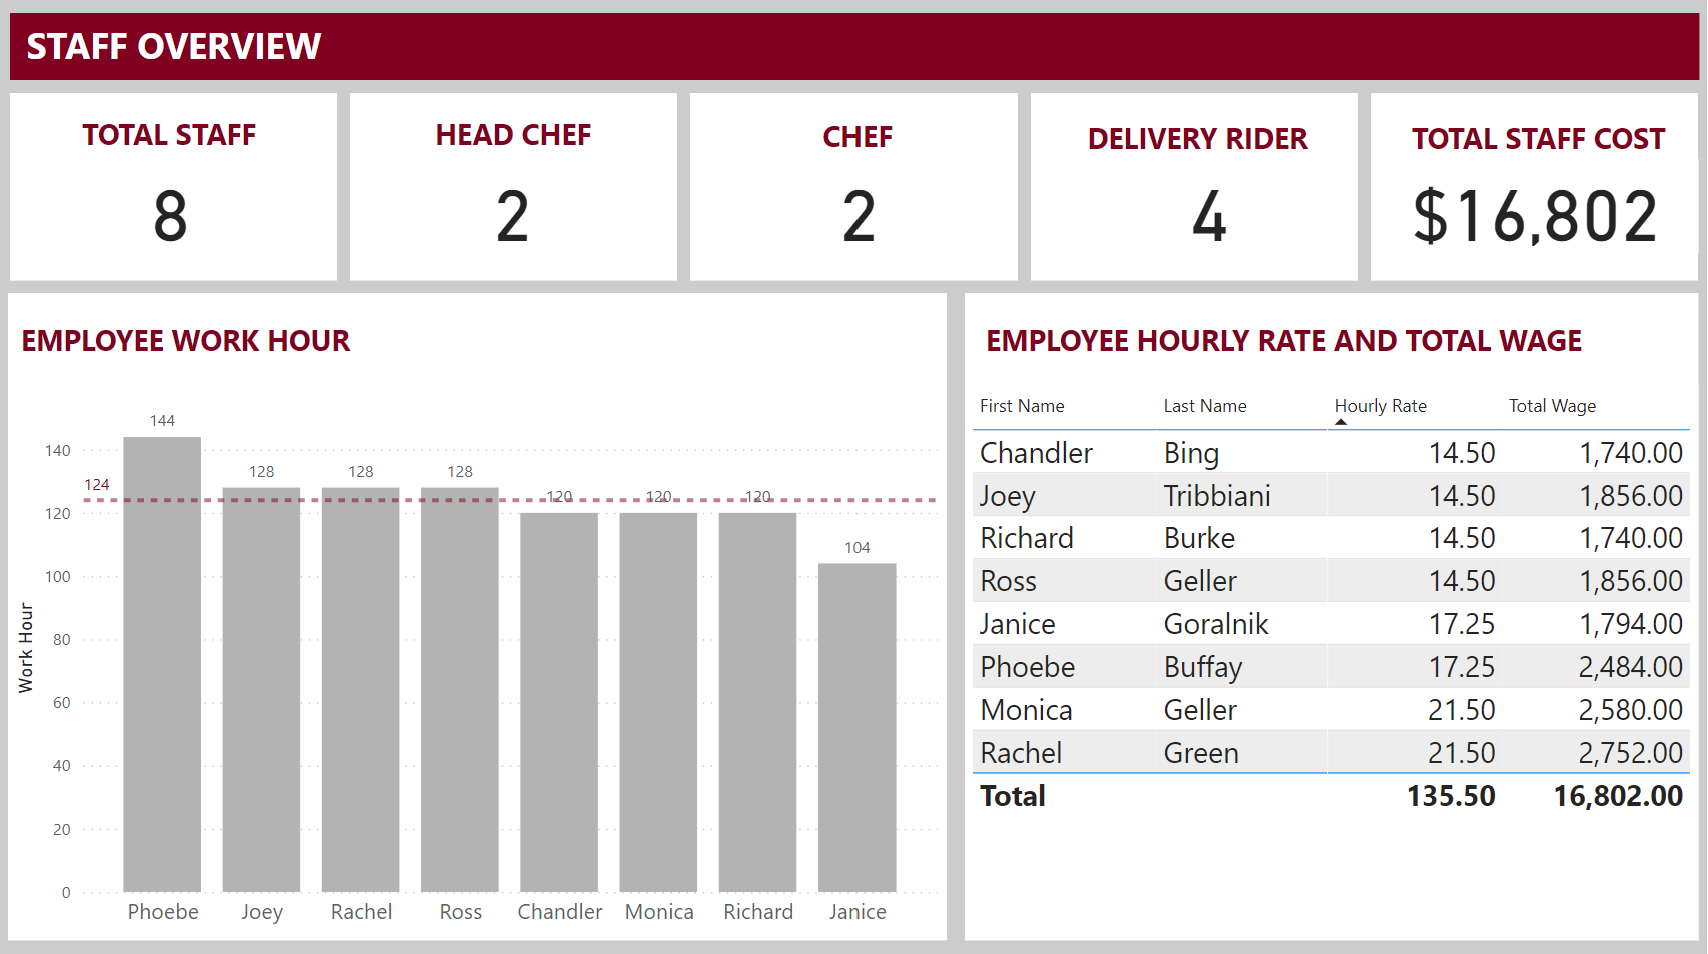

Layout of this report page (visuals, bound fields, positions):
{"tool":"powerbi","page":{"name":"Staff","canvas":[1280,720],"ordinal":2},"visuals":[{"type":"shape","box":[0,0,1280,720],"z":0},{"type":"textbox","box":[10,10,1260,50],"z":1000},{"type":"shape","box":[10,70,244,140],"z":2000},{"type":"textbox","box":[32,80,195.7,40],"z":3000},{"type":"shape","box":[264,70.4,244,140],"z":4000},{"type":"textbox","box":[288.3,80.4,195.7,40],"z":5000},{"type":"shape","box":[518,70,244,140],"z":6000},{"type":"textbox","box":[545.5,81.8,195.7,40],"z":7000},{"type":"shape","box":[772,70,244,140],"z":8000},{"type":"textbox","box":[798.5,83.7,194.8,39.8],"z":9000},{"type":"shape","box":[1026,70,244,140],"z":10000},{"type":"textbox","box":[1046.8,83.7,208.5,39.8],"z":11000},{"type":"card","fields":{"Values":["vStaffWage.EmployeeID"]},"box":[42.5,120,177,70],"z":12000},{"type":"card","fields":{"Values":["All Measure.Head Chef Count"]},"box":[296.3,120,177,70],"z":13000},{"type":"card","fields":{"Values":["All Measure.Chef Count"]},"box":[555.6,120,177,70],"z":14000},{"type":"card","fields":{"Values":["All Measure.Delivery Reider Count"]},"box":[816.3,120,177,70],"z":15000},{"type":"card","fields":{"Values":["All Measure.Total Staff Cost"]},"box":[1026.2,119.4,242.8,70],"z":16000},{"type":"shape","box":[8.2,219.5,700,482.9],"z":17000},{"type":"clusteredColumnChart","fields":{"Y":["vStaffWage.TotalWorkHour"],"Category":["vStaffWage.EmpFirstName"]},"box":[9.6,288.1,698.3,414.3],"z":18000},{"type":"shape","box":[723,219.5,547.4,482.9],"z":19000},{"type":"tableEx","fields":{"Values":["vStaffWage.EmpFirstName","vStaffWage.EmpLastName","vStaffWage.HourlyRate","vStaffWage.TotalWage"]},"box":[723,288.1,547.4,414.3],"z":20000},{"type":"textbox","box":[732.6,234.6,522.7,41.2],"z":21000},{"type":"textbox","box":[13.7,234.6,429.4,41.2],"z":22000}]}

Visuals, with their boxes in screenshot pixels (x1, y1, x2, y2), scaled from the page's 1280x720 canvas onto the 1708x954 screenshot:
shape: (0,0,1707,953)
textbox: (13,13,1695,80)
shape: (13,93,339,278)
textbox: (43,106,304,159)
shape: (352,93,678,279)
textbox: (385,107,646,160)
shape: (691,93,1017,278)
textbox: (728,108,989,161)
shape: (1030,93,1356,278)
textbox: (1065,111,1325,164)
shape: (1369,93,1695,278)
textbox: (1397,111,1675,164)
card - vStaffWage.EmployeeID: (57,159,293,252)
card - All Measure.Head Chef Count: (395,159,632,252)
card - All Measure.Chef Count: (741,159,978,252)
card - All Measure.Delivery Reider Count: (1089,159,1325,252)
card - All Measure.Total Staff Cost: (1369,158,1693,251)
shape: (11,291,945,931)
clusteredColumnChart - vStaffWage.TotalWorkHour x vStaffWage.EmpFirstName: (13,382,945,931)
shape: (965,291,1695,931)
tableEx - vStaffWage.EmpFirstName x vStaffWage.EmpLastName: (965,382,1695,931)
textbox: (978,311,1675,365)
textbox: (18,311,591,365)
